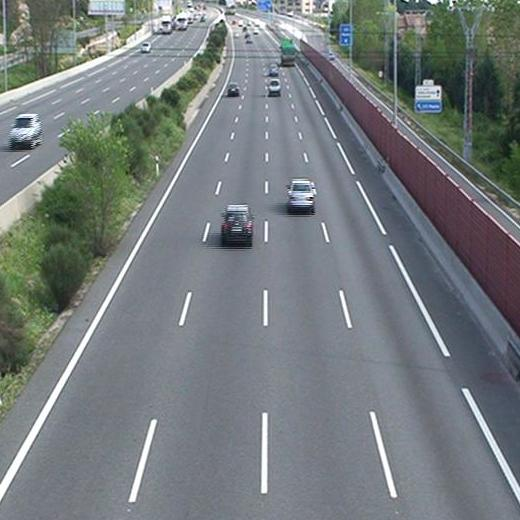car: (219, 205, 254, 243), (285, 177, 315, 211), (227, 82, 241, 96), (268, 63, 279, 75)
truck: (279, 38, 296, 66)
van: (267, 79, 281, 95)
